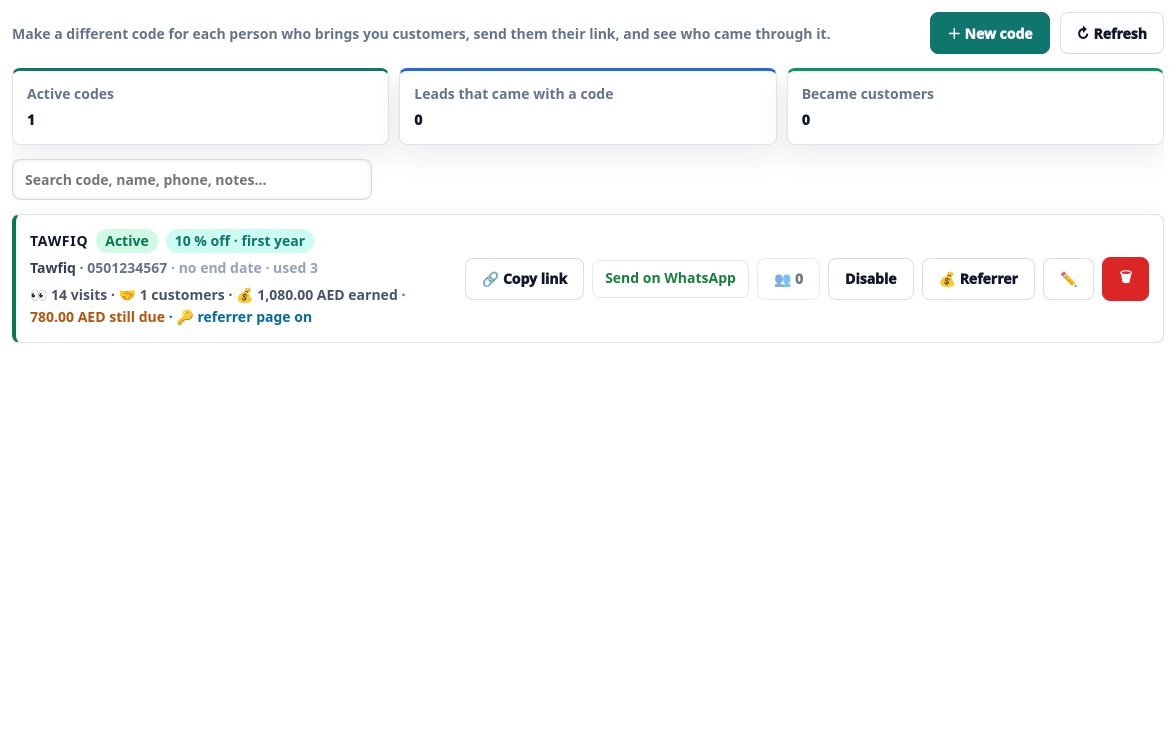
Scenario: Promo codes (owner): referrer tools open with commission due and payouts
The image size is (1176, 732).
Click the button "💰 Referrer" at (978,279), box 922,258 -> 1035,300
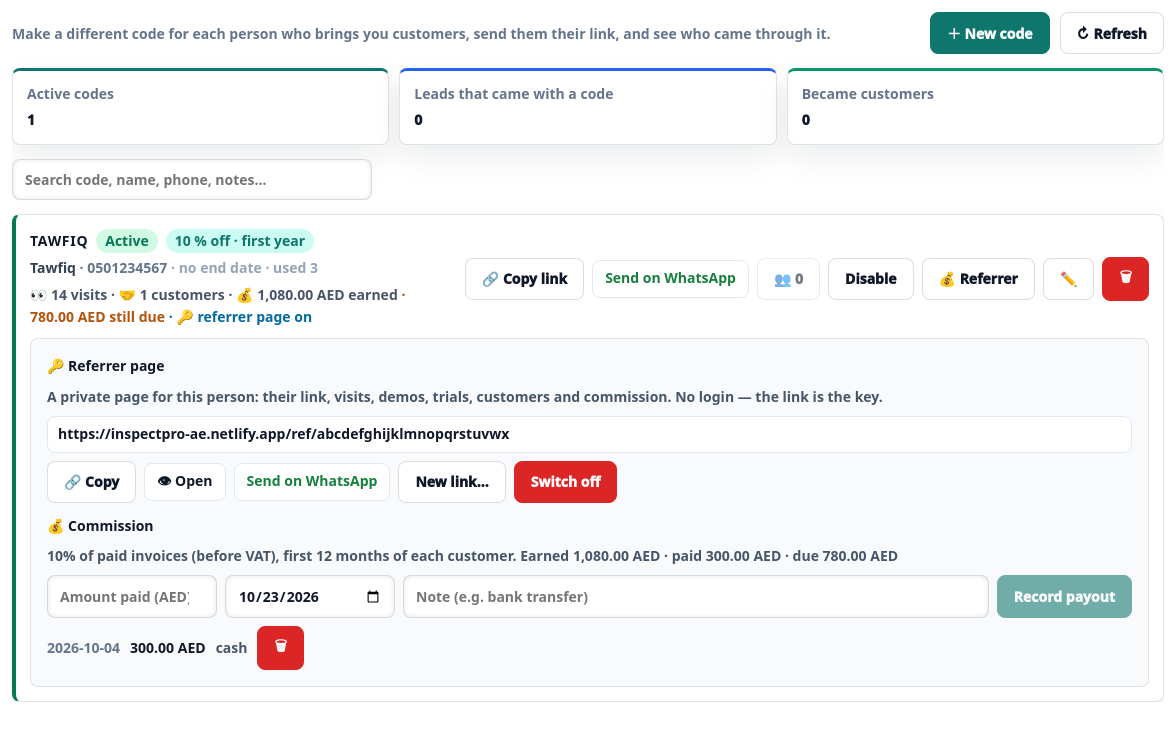
Expected: the text "/ref/abcdefghijklmnopqrstuvwx" is shown, 58,424 -> 509,443
Expected: the text "Record payout" is shown, 997,575 -> 1132,618
Expected: the text "cash" is shown, 216,637 -> 247,660
